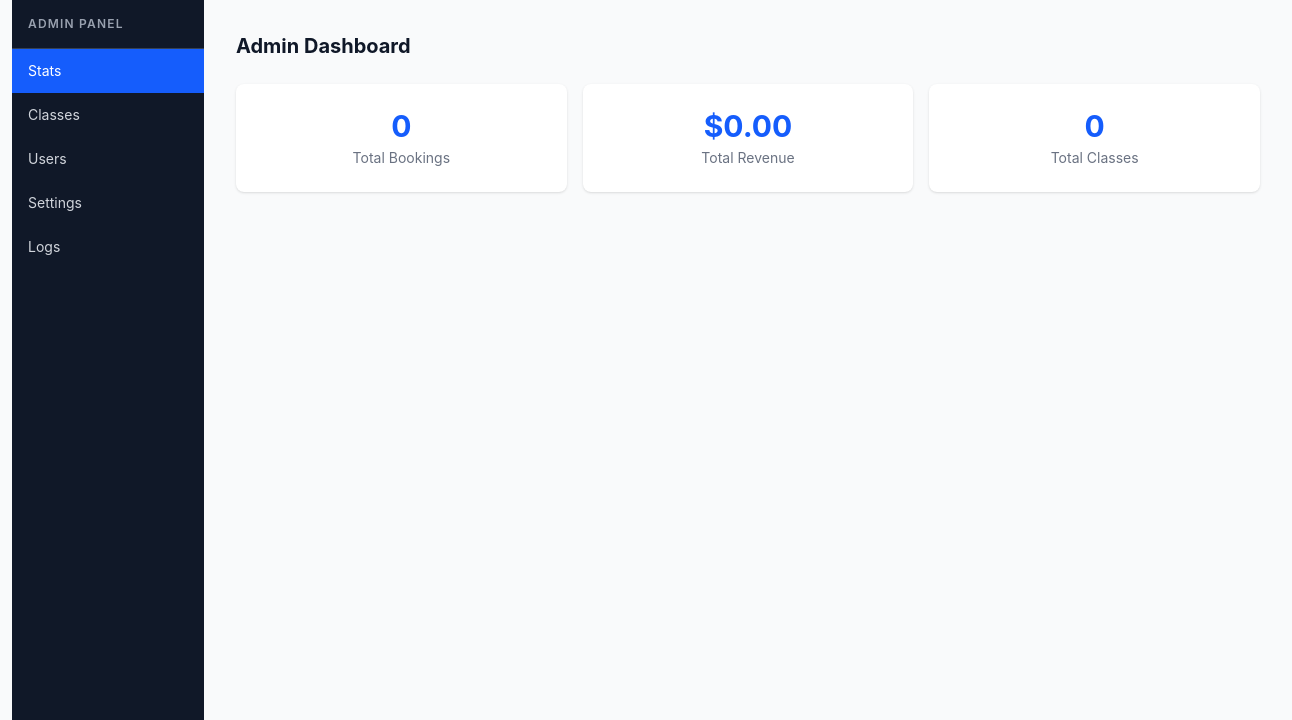
Scenario: Admin Users tab – search › filters users by email
The width and height of the screenshot is (1292, 720).
Click the button "Users". click: (108, 159)
box: [12,137,204,181]
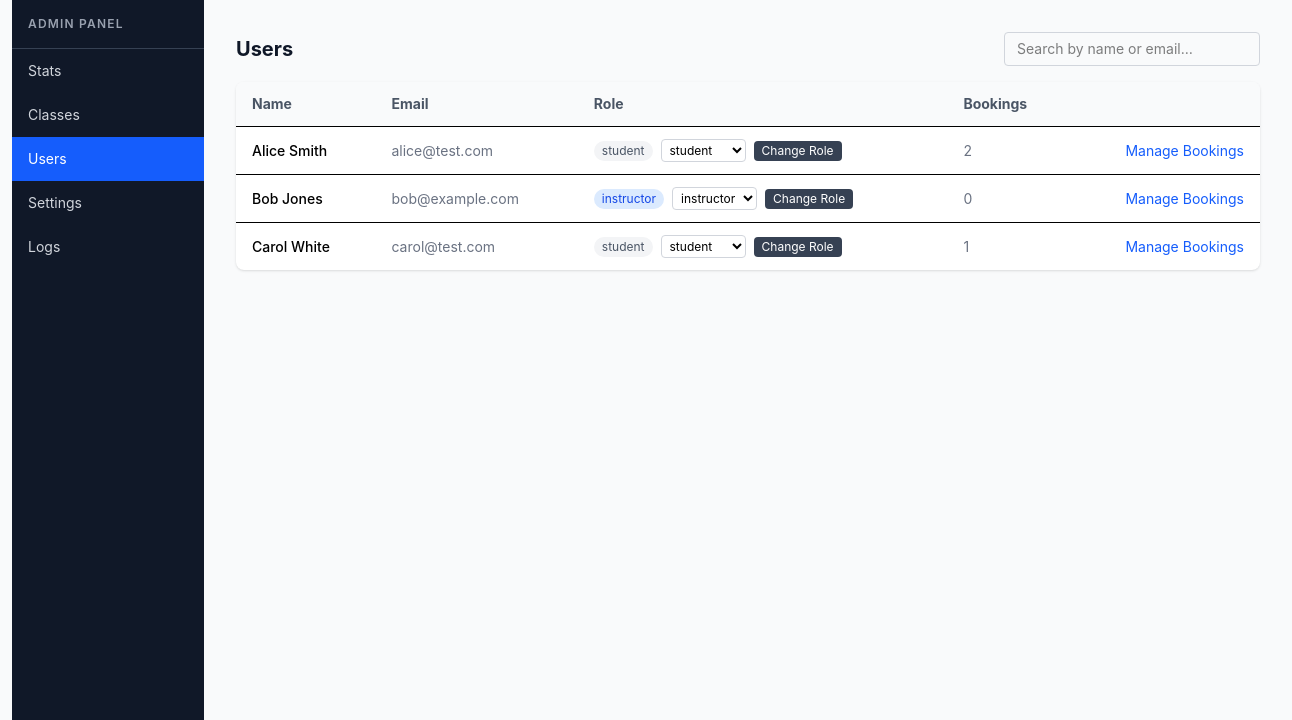
Expected: the text "Alice Smith" is shown, [236,126,376,174]
Type "example.com" into the field named "search users". click: (1132, 49)
box: [1004,32,1260,66]
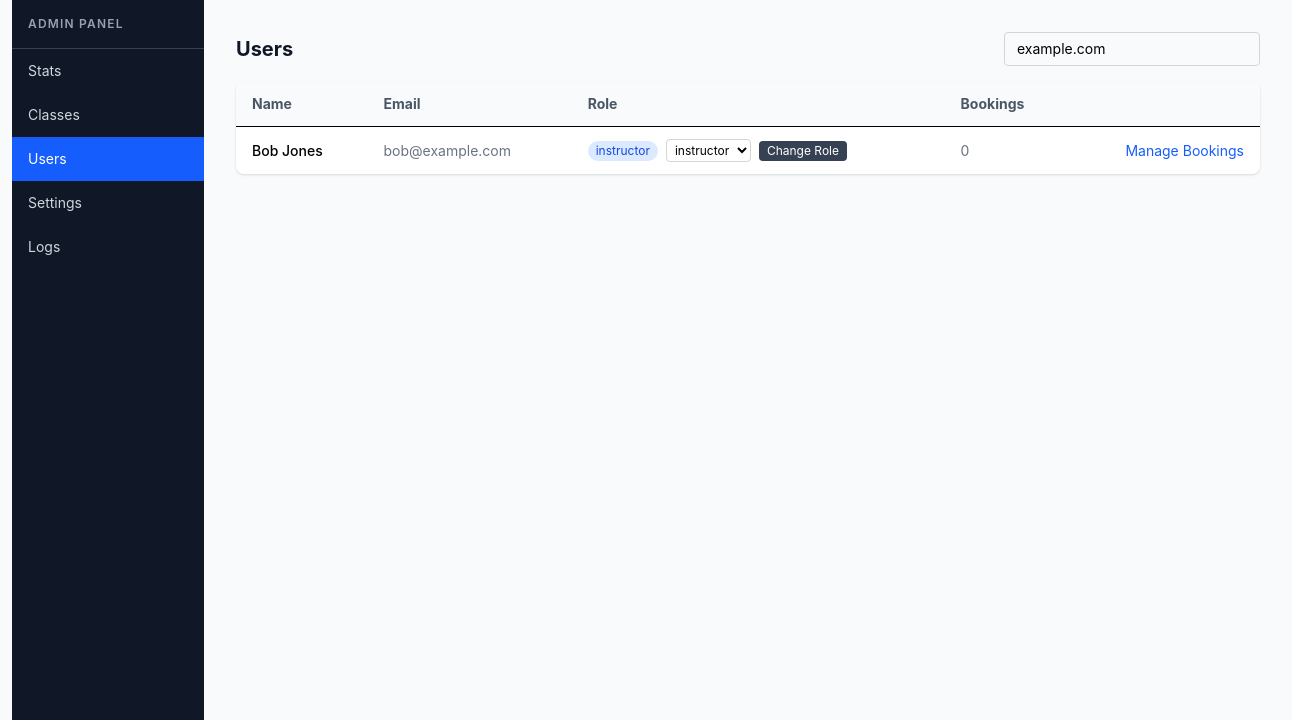
Expected: the text "Bob Jones" is shown, [236,126,368,174]
Expected: the text "Alice Smith" is gone
Expected: the text "Carol White" is gone
